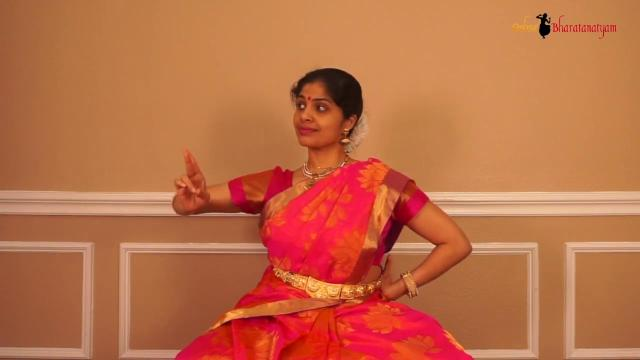kartarimukh: (150, 132, 216, 222)
